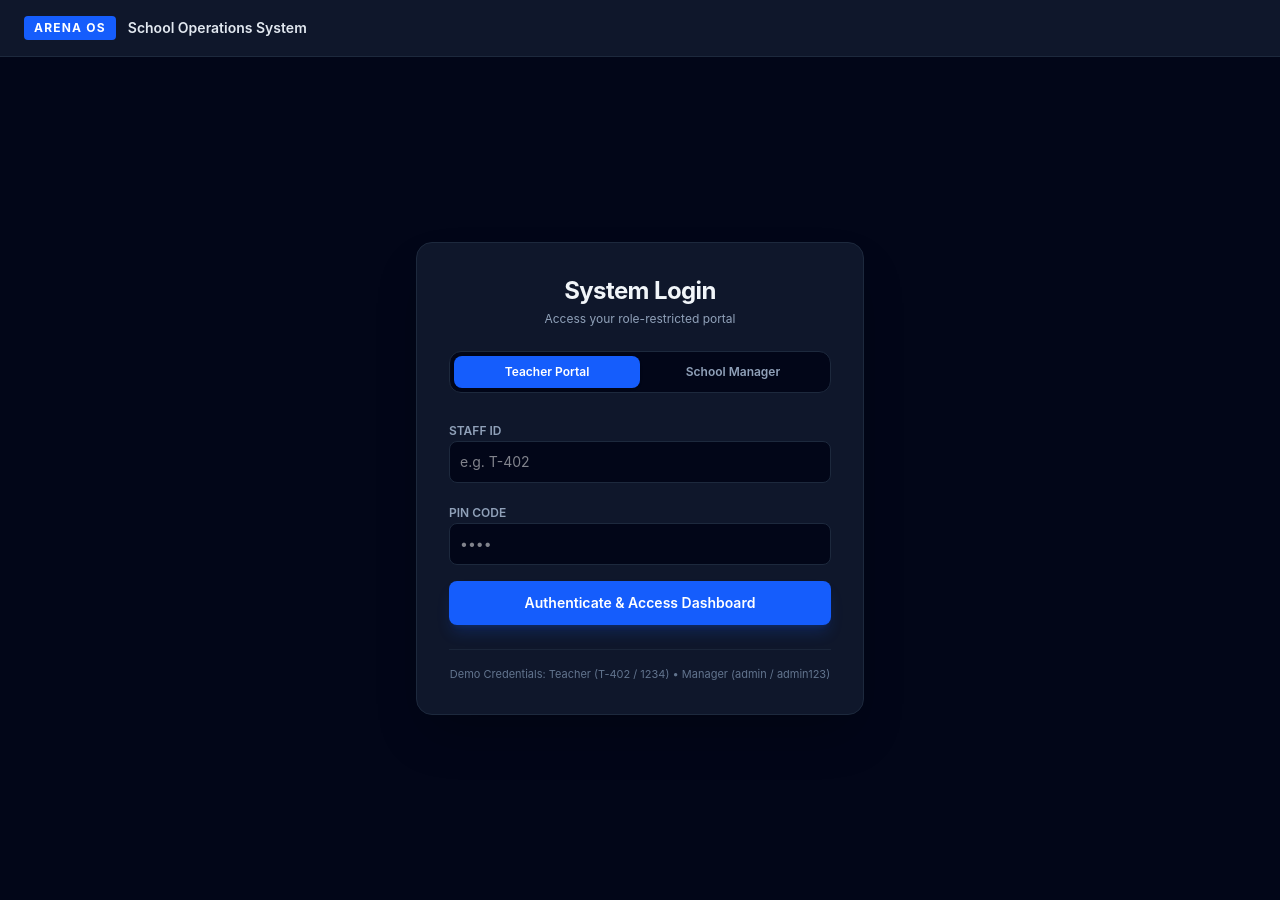
Login › normalises manager usernames (fix 7)
Click the button "School Manager". click: (733, 372)
box: [640, 356, 826, 388]
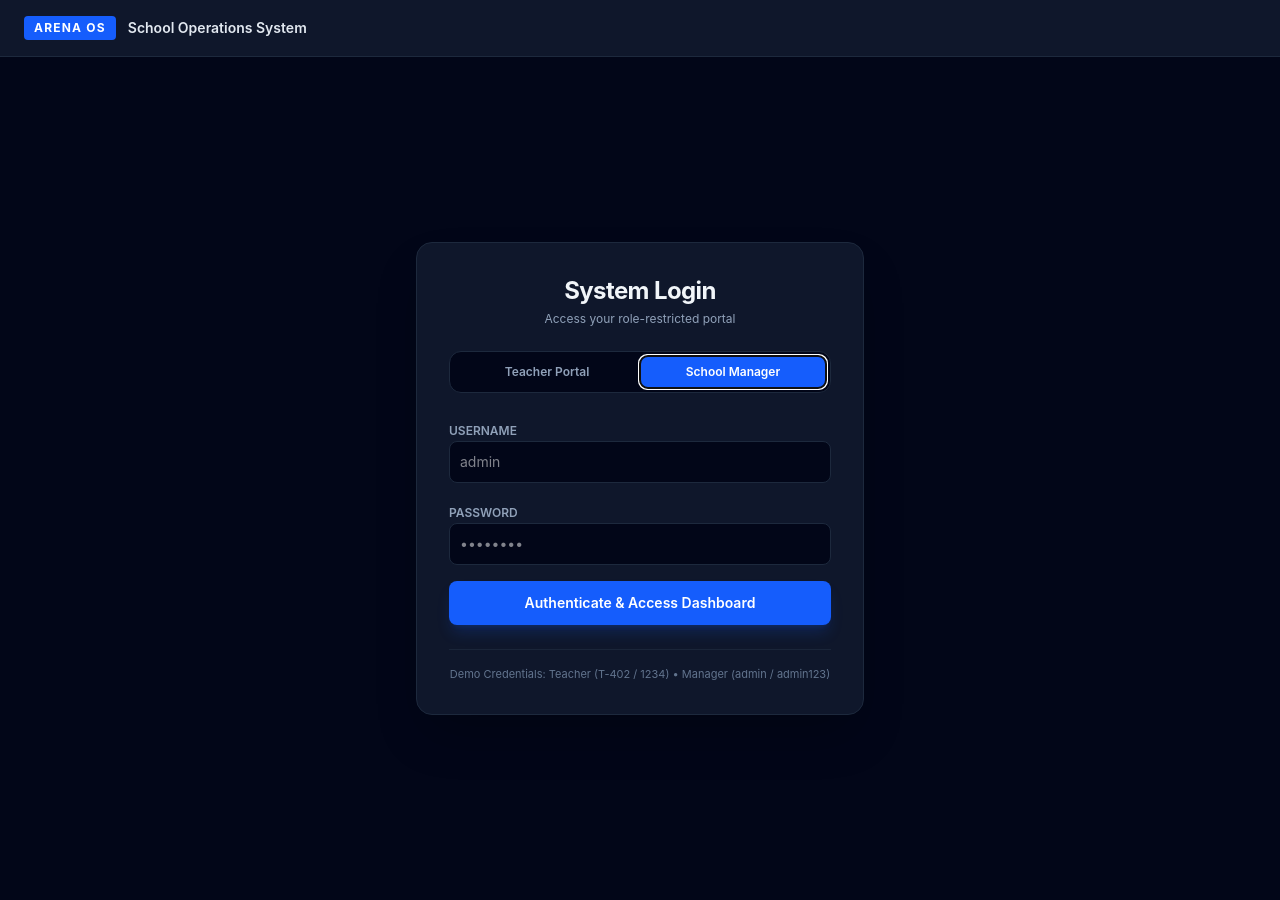
Type "Admin " into the field labelled "Username". click: (640, 462)
box: [449, 441, 831, 483]
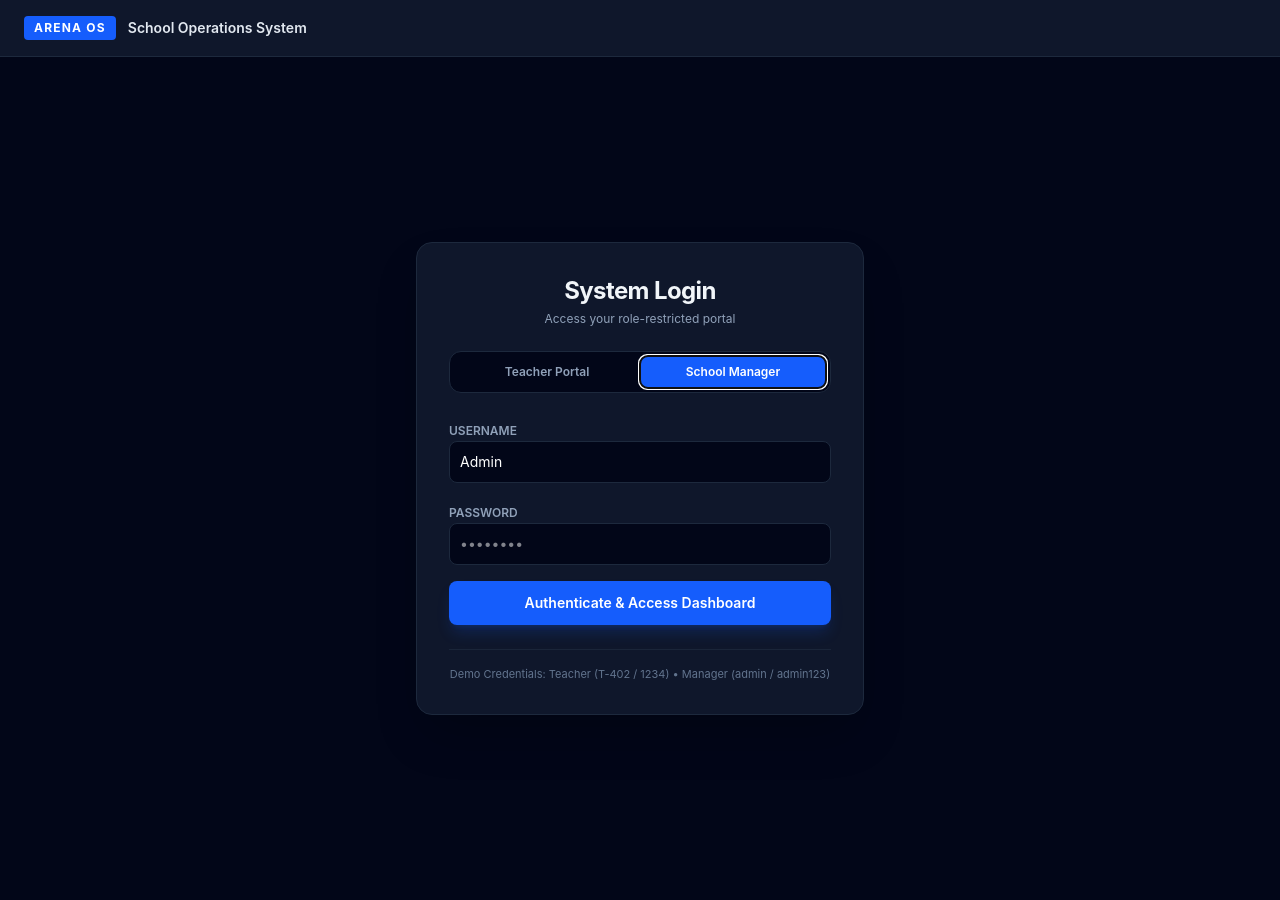
Type "admin123" into the password field labelled "Password". click: (640, 544)
box: [449, 523, 831, 565]
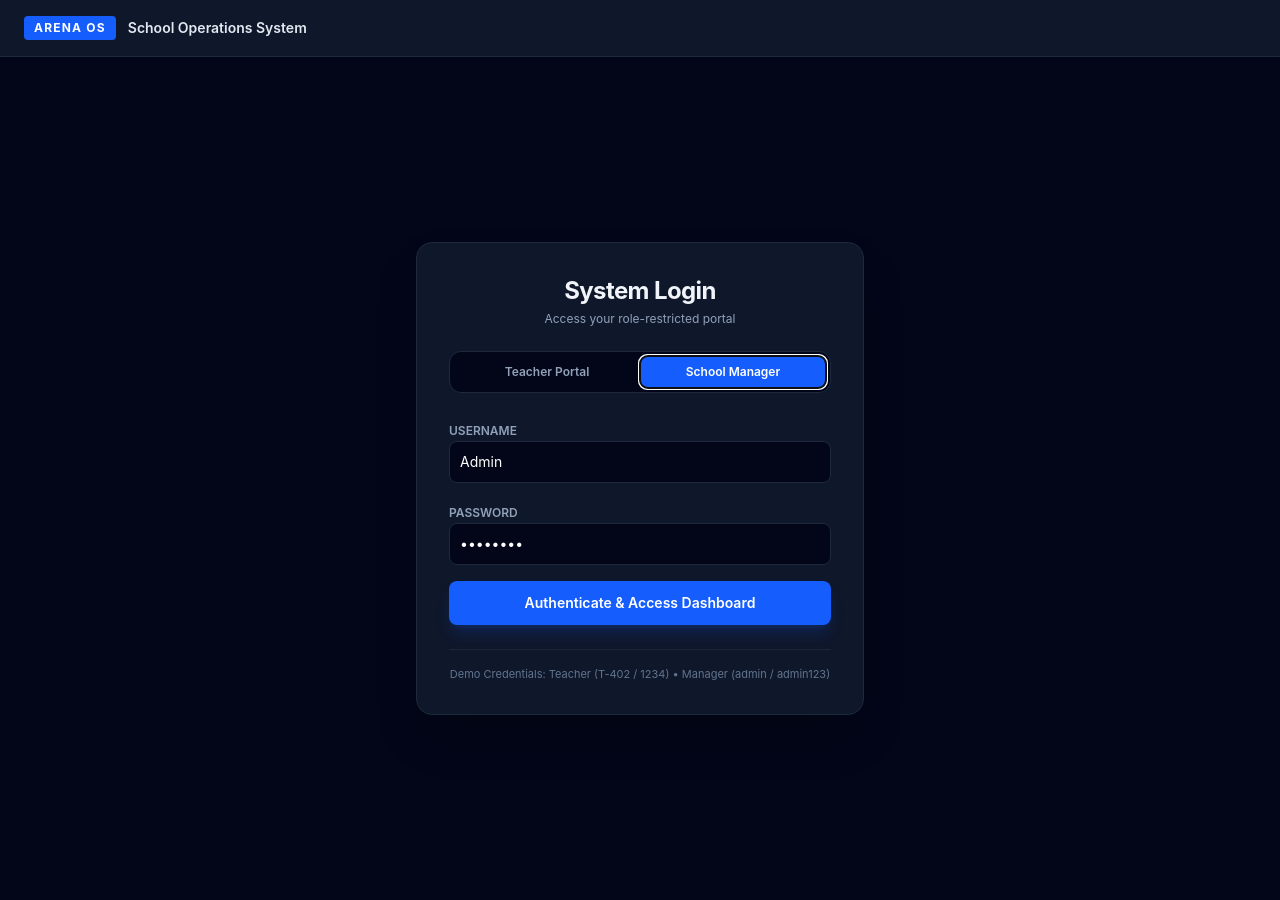
Click the button "Authenticate & Access Dashboard". click: (640, 603)
box: [449, 581, 831, 625]
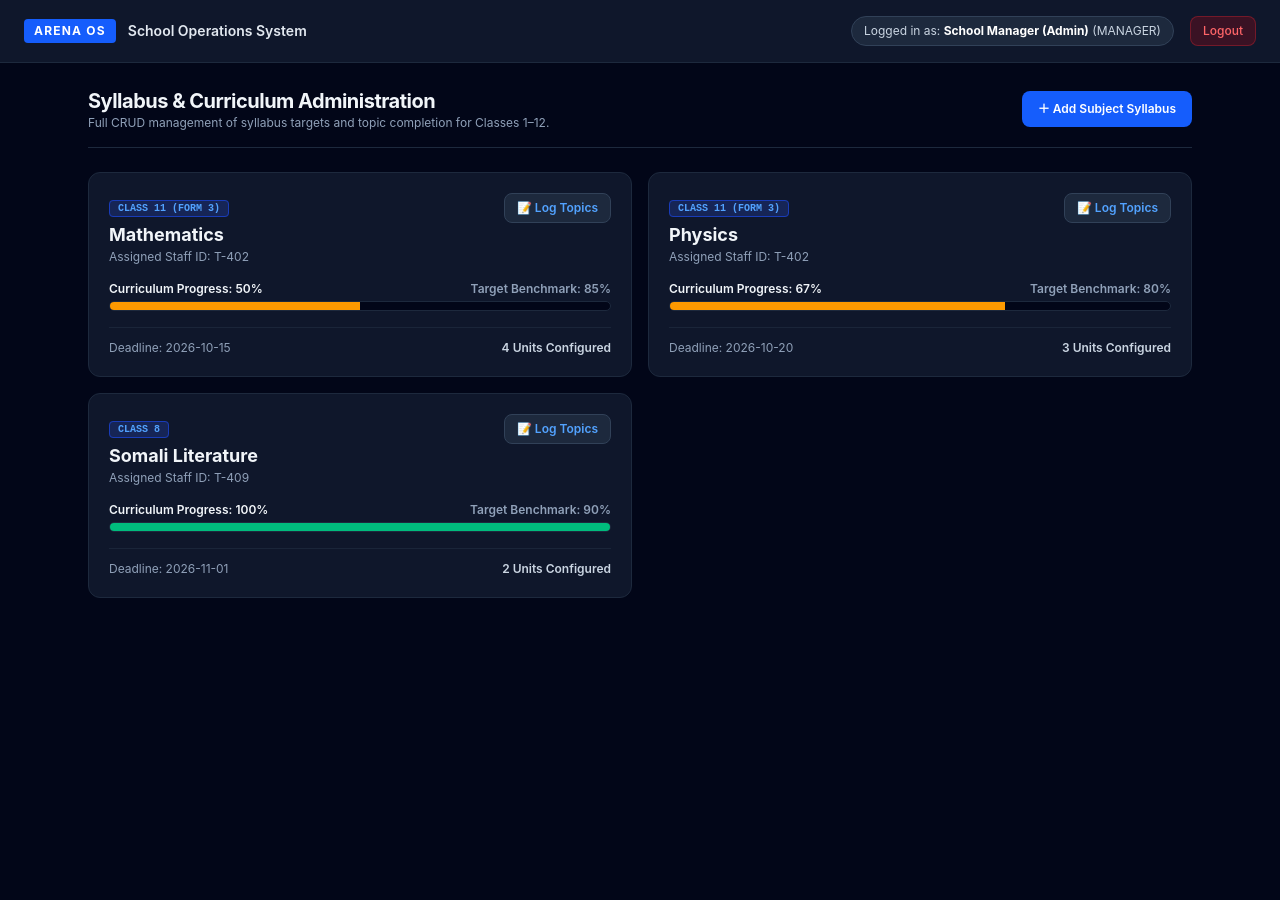
Expected: the heading "Syllabus & Curriculum Administration" is shown, [88, 89, 435, 113]
